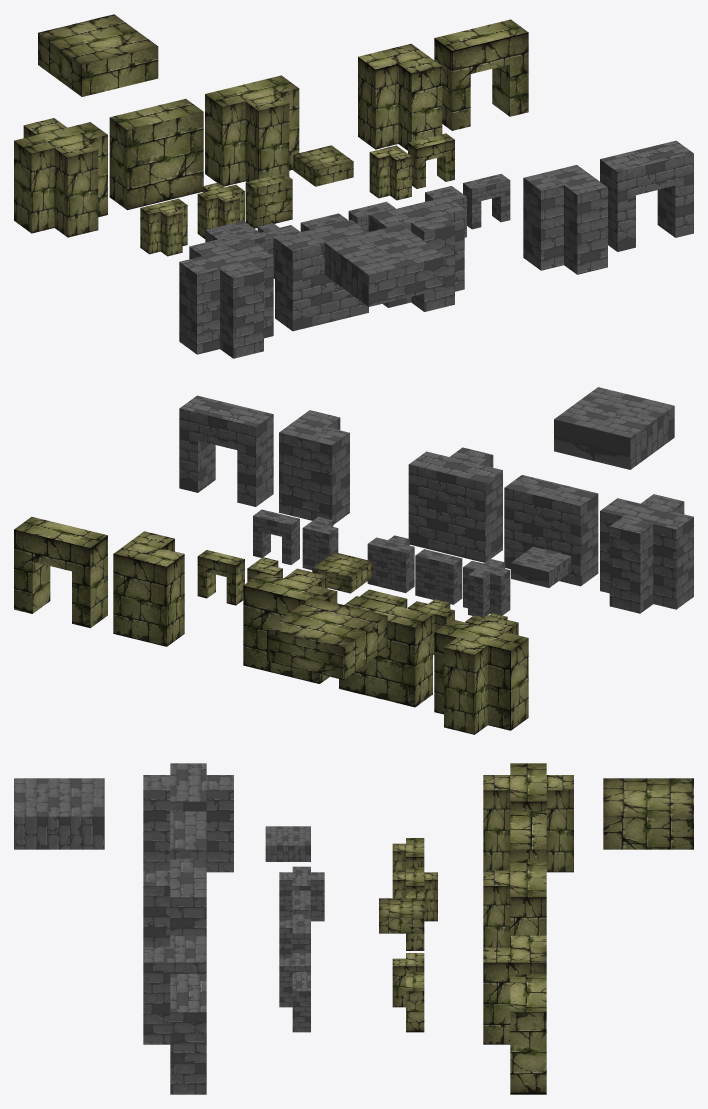
Rendered from StonesWallTiles3.glb.
3 renders of one model, top to bottom at view 1: azimuth 30°, elevation 25°; view 2: azimuth 150°, elevation 25°; view 3: azimuth 270°, elevation 25°, orthographic. The views are drawn at different scales.
Parts seen in each view (by area): view 1: 019crossStonesBif-col, 014crossBig-col, 011wall01Big-col, 013T01Big-col, 017corner01StonesBig-col, 012cornerBig01-col, 23roofBig2-col, 015dorrwayBig-col, 22roofBig-col, 20dorrway01StonesBig-col, 016wall01StonesBig-col, 018T01StonesBig-col (+11 smaller); view 2: 014crossBig-col, 019crossStonesBif-col, 018T01StonesBig-col, 20dorrway01StonesBig-col, 015dorrwayBig-col, 016wall01StonesBig-col, 22roofBig-col, 23roofBig2-col, 012cornerBig01-col, 017corner01StonesBig-col, 011wall01Big-col, 013T01Big-col (+10 smaller); view 3: 014crossBig-col, 019crossStonesBif-col, 22roofBig-col, 23roofBig2-col, 013T01Big-col, 018T01StonesBig-col, 015dorrwayBig-col, 20dorrway01StonesBig-col, 012cornerBig01-col, 017corner01StonesBig-col, 009crossStones-col, 011wall01Big-col (+11 smaller).
Part boxes in pixels (bbox=[...]): 019crossStonesBif-col: bbox=[179, 239, 273, 358]; 014crossBig-col: bbox=[14, 118, 107, 237]; 011wall01Big-col: bbox=[109, 98, 203, 210]; 013T01Big-col: bbox=[205, 75, 299, 186]; 017corner01StonesBig-col: bbox=[523, 165, 607, 274]; 012cornerBig01-col: bbox=[358, 43, 442, 150]; 23roofBig2-col: bbox=[324, 224, 445, 306]; 015dorrwayBig-col: bbox=[434, 19, 528, 130]; 22roofBig-col: bbox=[38, 14, 158, 96]; 20dorrway01StonesBig-col: bbox=[600, 140, 693, 251]; 016wall01StonesBig-col: bbox=[275, 220, 368, 331]; 018T01StonesBig-col: bbox=[370, 196, 464, 311]; 014crossBig-col: bbox=[434, 615, 528, 734]; 019crossStonesBif-col: bbox=[600, 494, 693, 613]; 018T01StonesBig-col: bbox=[408, 447, 502, 562]; 20dorrway01StonesBig-col: bbox=[179, 395, 273, 506]; 015dorrwayBig-col: bbox=[14, 516, 107, 628]; 016wall01StonesBig-col: bbox=[504, 475, 598, 586]; 22roofBig-col: bbox=[267, 597, 387, 679]; 23roofBig2-col: bbox=[554, 387, 674, 469]; 012cornerBig01-col: bbox=[113, 531, 184, 646]; 017corner01StonesBig-col: bbox=[279, 410, 349, 524]; 011wall01Big-col: bbox=[339, 596, 432, 707]; 013T01Big-col: bbox=[243, 568, 337, 683]; 014crossBig-col: bbox=[483, 763, 573, 872]; 019crossStonesBif-col: bbox=[143, 763, 233, 872]; 22roofBig-col: bbox=[603, 778, 693, 849]; 23roofBig2-col: bbox=[14, 778, 104, 849]; 013T01Big-col: bbox=[483, 859, 546, 947]; 018T01StonesBig-col: bbox=[143, 859, 206, 947]; 015dorrwayBig-col: bbox=[510, 974, 546, 1094]; 20dorrway01StonesBig-col: bbox=[170, 974, 206, 1094]; 012cornerBig01-col: bbox=[483, 935, 546, 1044]; 017corner01StonesBig-col: bbox=[143, 935, 206, 1044]; 009crossStones-col: bbox=[279, 866, 324, 921]; 011wall01Big-col: bbox=[510, 811, 546, 859].
Size of the model in its own units: 52 by 11.2 by 60.
2 materials, 2 textured.
